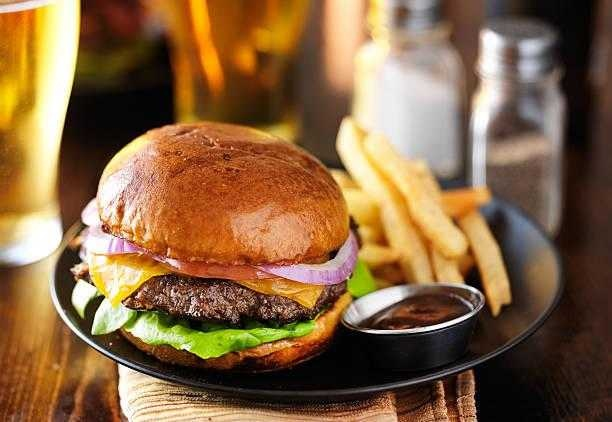hamburger: (85, 112, 357, 367)
